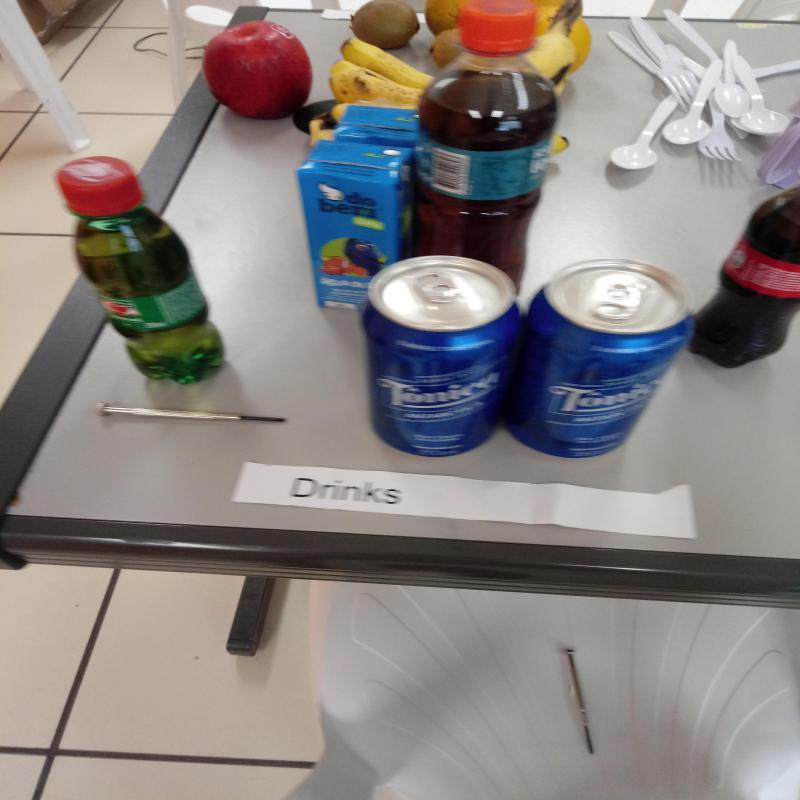Apple: (203, 20, 316, 120)
Banana: (320, 35, 439, 113)
CoconutWater: (302, 137, 406, 307), (337, 96, 415, 154)
Coke: (686, 181, 800, 370)
Guarana: (58, 156, 230, 386)
IceTea: (402, 3, 568, 304)
Kiwi: (345, 0, 422, 48)
Tonic: (508, 259, 685, 463), (357, 255, 510, 459)
